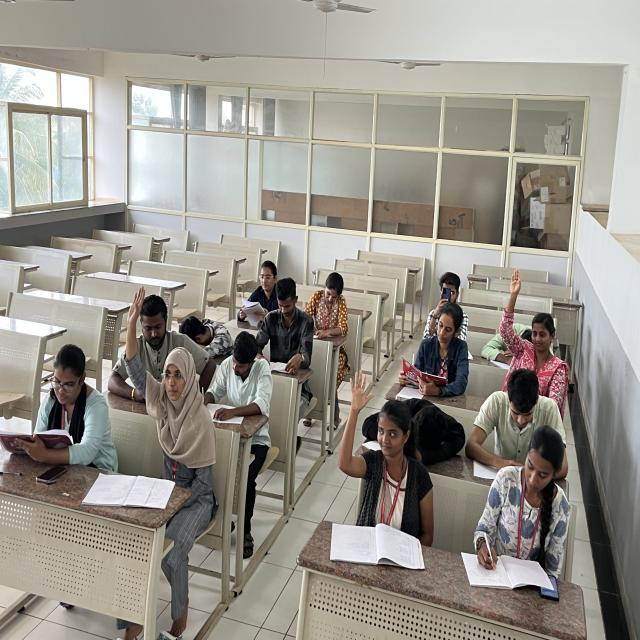Hand Rising: (123, 285, 214, 473), (341, 373, 428, 510), (502, 266, 566, 386)
Reading: (2, 329, 112, 456), (469, 378, 566, 487), (264, 278, 306, 373), (309, 258, 346, 339), (239, 259, 278, 323)
Sleeping: (482, 305, 542, 364), (178, 296, 236, 355)
Using Phone: (424, 264, 478, 346)
Writing: (470, 429, 552, 580), (200, 332, 270, 428)
